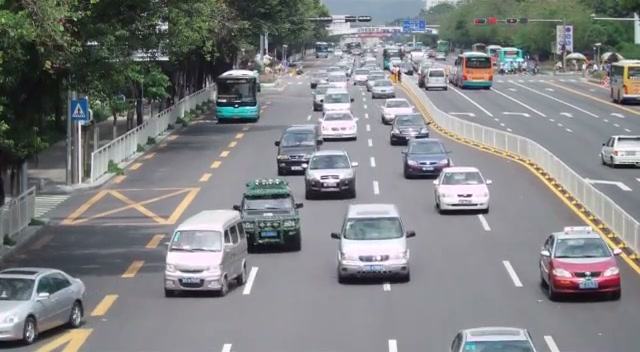bus: (215, 69, 261, 123), (450, 51, 494, 89)
car: (163, 208, 249, 297), (330, 202, 416, 284), (0, 267, 86, 345), (538, 227, 623, 302), (237, 177, 303, 253), (433, 166, 491, 215), (304, 148, 358, 199), (449, 327, 539, 352), (275, 125, 319, 174), (402, 138, 452, 180), (599, 134, 640, 169), (317, 110, 359, 142), (389, 114, 431, 145), (380, 97, 417, 125), (322, 90, 354, 116), (423, 68, 448, 91)
truck: (236, 178, 303, 253), (608, 60, 640, 104)
